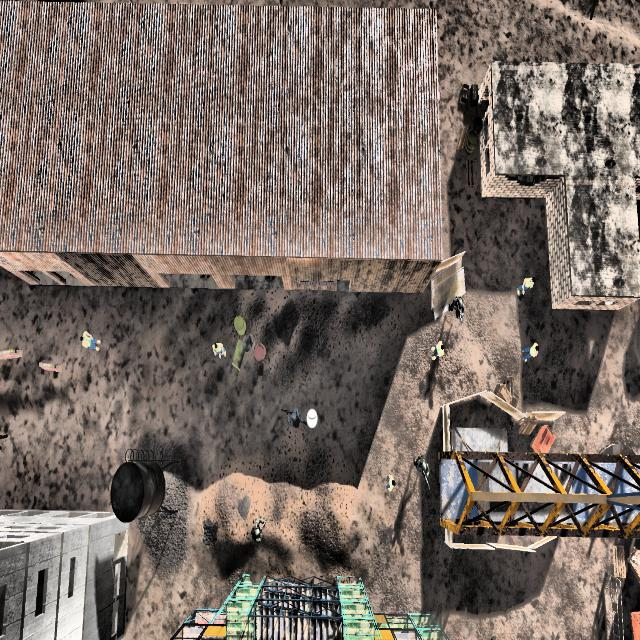bad: (410, 440, 434, 495), (282, 397, 307, 439), (246, 511, 268, 553), (446, 293, 468, 329)
good: (74, 318, 103, 361), (512, 266, 536, 307), (515, 335, 540, 367), (427, 332, 447, 369), (381, 467, 401, 500), (209, 336, 228, 366)
